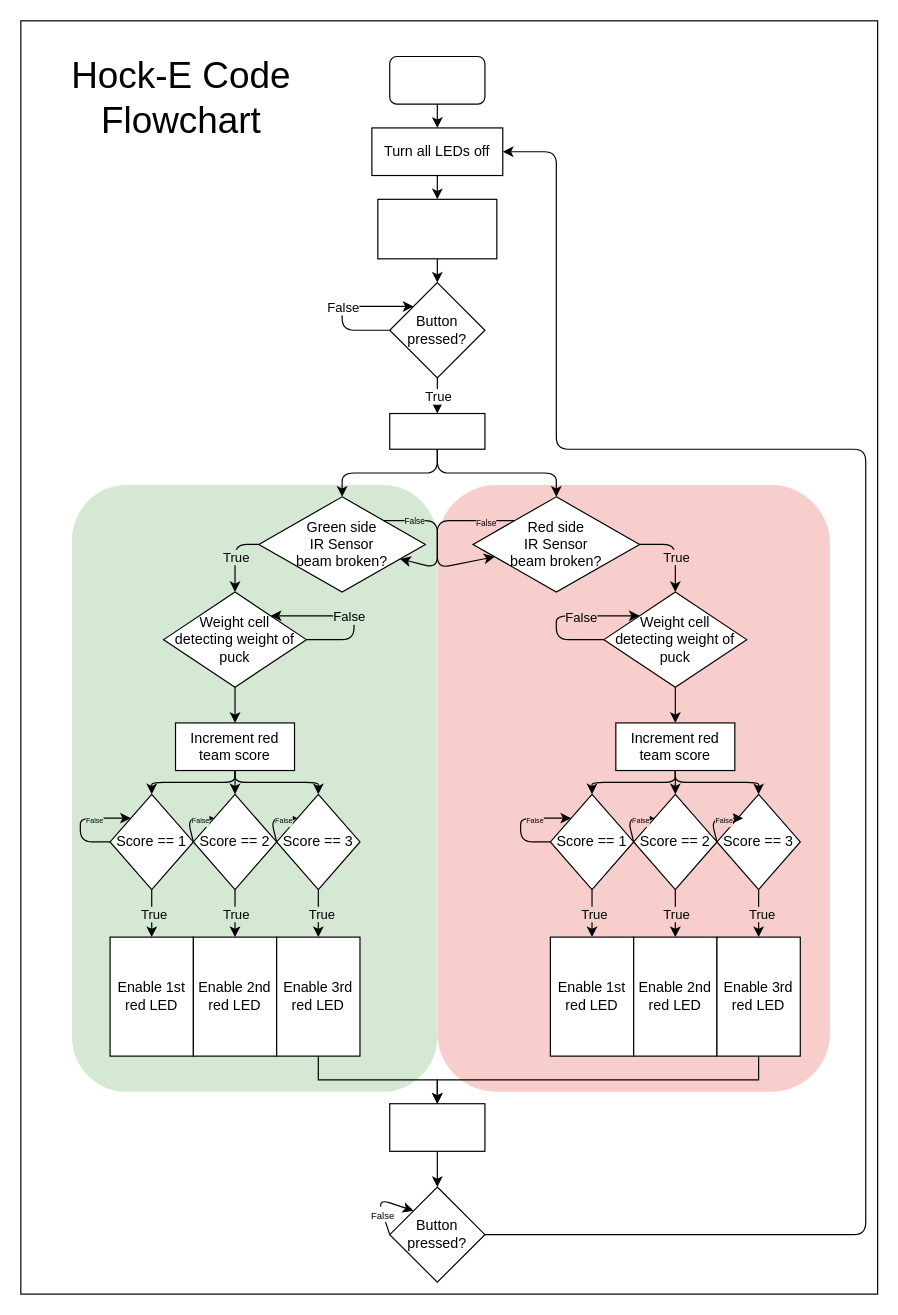
This 898x1315 diagram has some shape labels left out. The box of each missing label's shape, as (x1, y1, x2, y2) in pixels:
Initialise timer to 00:00: (377, 198, 497, 259)
Start: (389, 55, 485, 104)
Start timer: (389, 412, 485, 449)
Stop timer: (389, 1103, 485, 1151)
